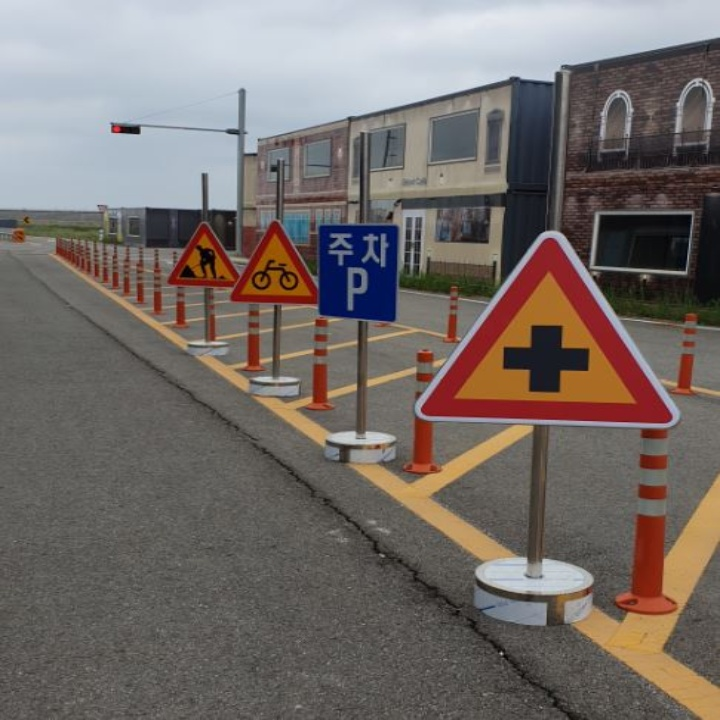bicycle: (247, 256, 302, 292)
const: (176, 244, 232, 279)
inter: (497, 318, 597, 396)
